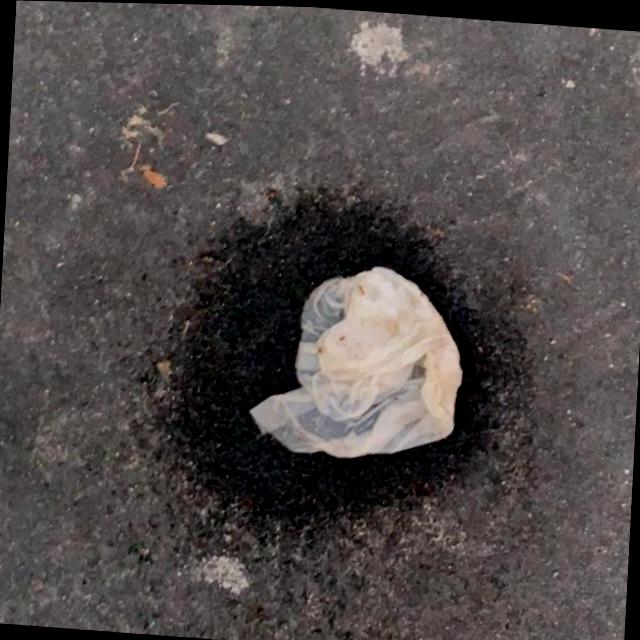Paper: (248, 253, 468, 472)
